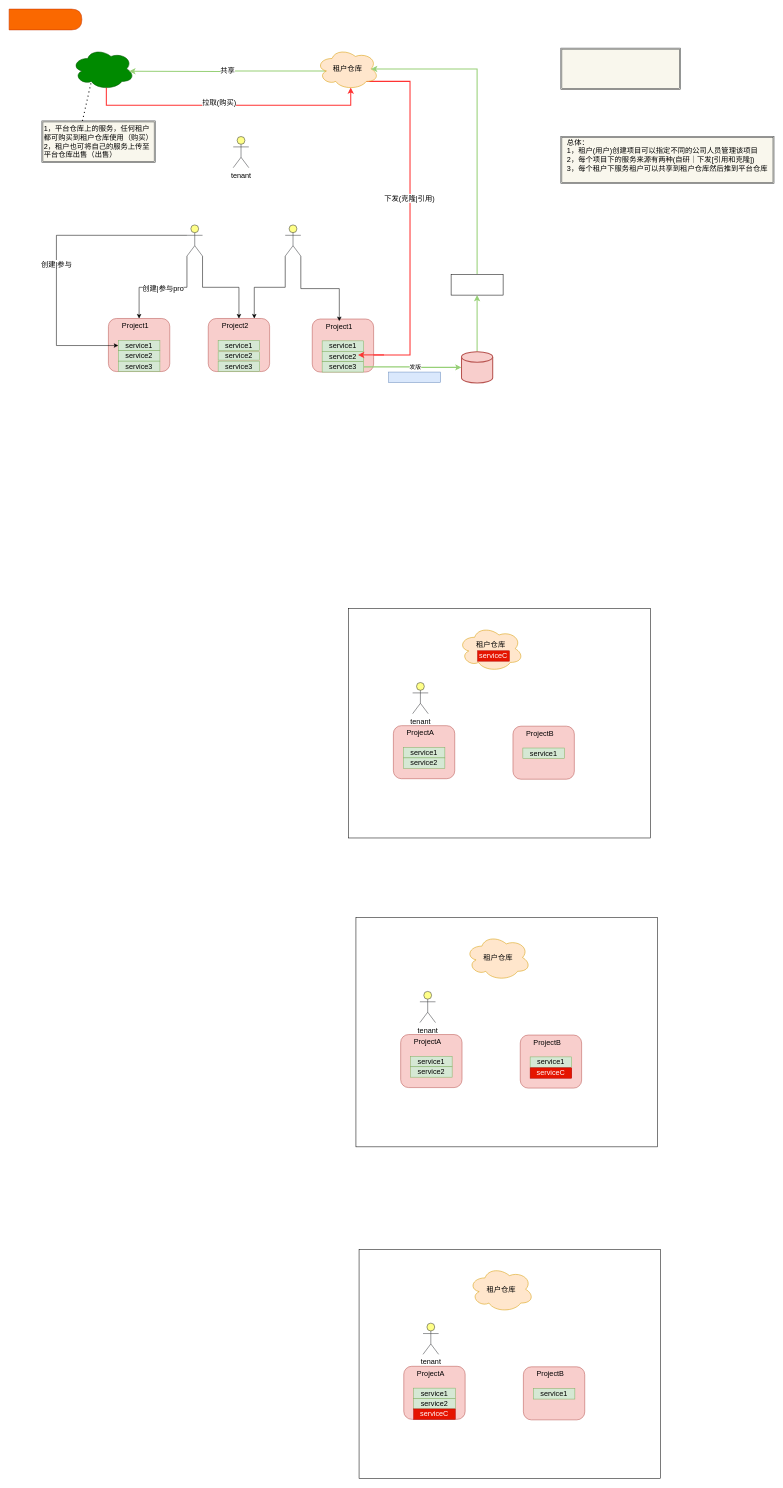
This 783x1488 diagram has some shape labels left out. Here are the shapes that lost their labels. From the top down, the centre of each, then its label:
At point 45,19: "part_1:整体图".
At point 103,69: "平台仓库".
At point 620,69: "1，为生么要有平台仓库？ 2，引用和下发的区别以及作用".
At point 194,240: "userA".
At point 293,240: "userB".
At point 477,284: "发布(成功)".
At point 414,377: "service_snapshot".
At point 477,367: "DB".
